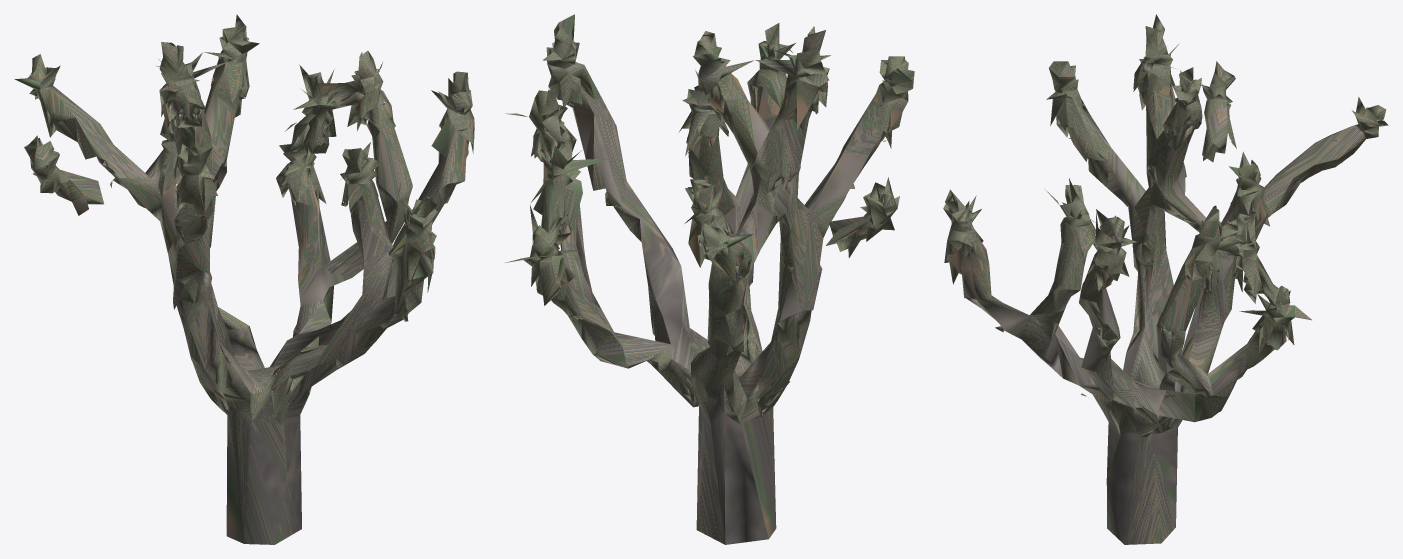
Rendered from joshua-tree.glb.
3 renders of one model, left to right at view 1: azimuth 30°, elevation 25°; view 2: azimuth 150°, elevation 25°; view 3: azimuth 270°, elevation 25°, orthographic. The views are drawn at different scales.
Visible parts, largest first — view 1: world; view 2: world; view 3: world.
Part boxes in pixels (bbox=[...]): world: bbox=[14, 14, 474, 544]; world: bbox=[505, 14, 914, 544]; world: bbox=[943, 14, 1388, 544].
Size of the model in its own units: 0.7862 by 0.9818 by 0.836.
1 material, 1 textured.
